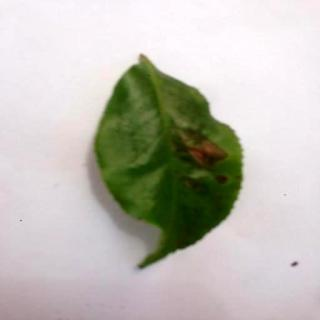Algal Leaf: (98, 56, 243, 273)
